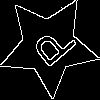P: (24, 21, 79, 76)
